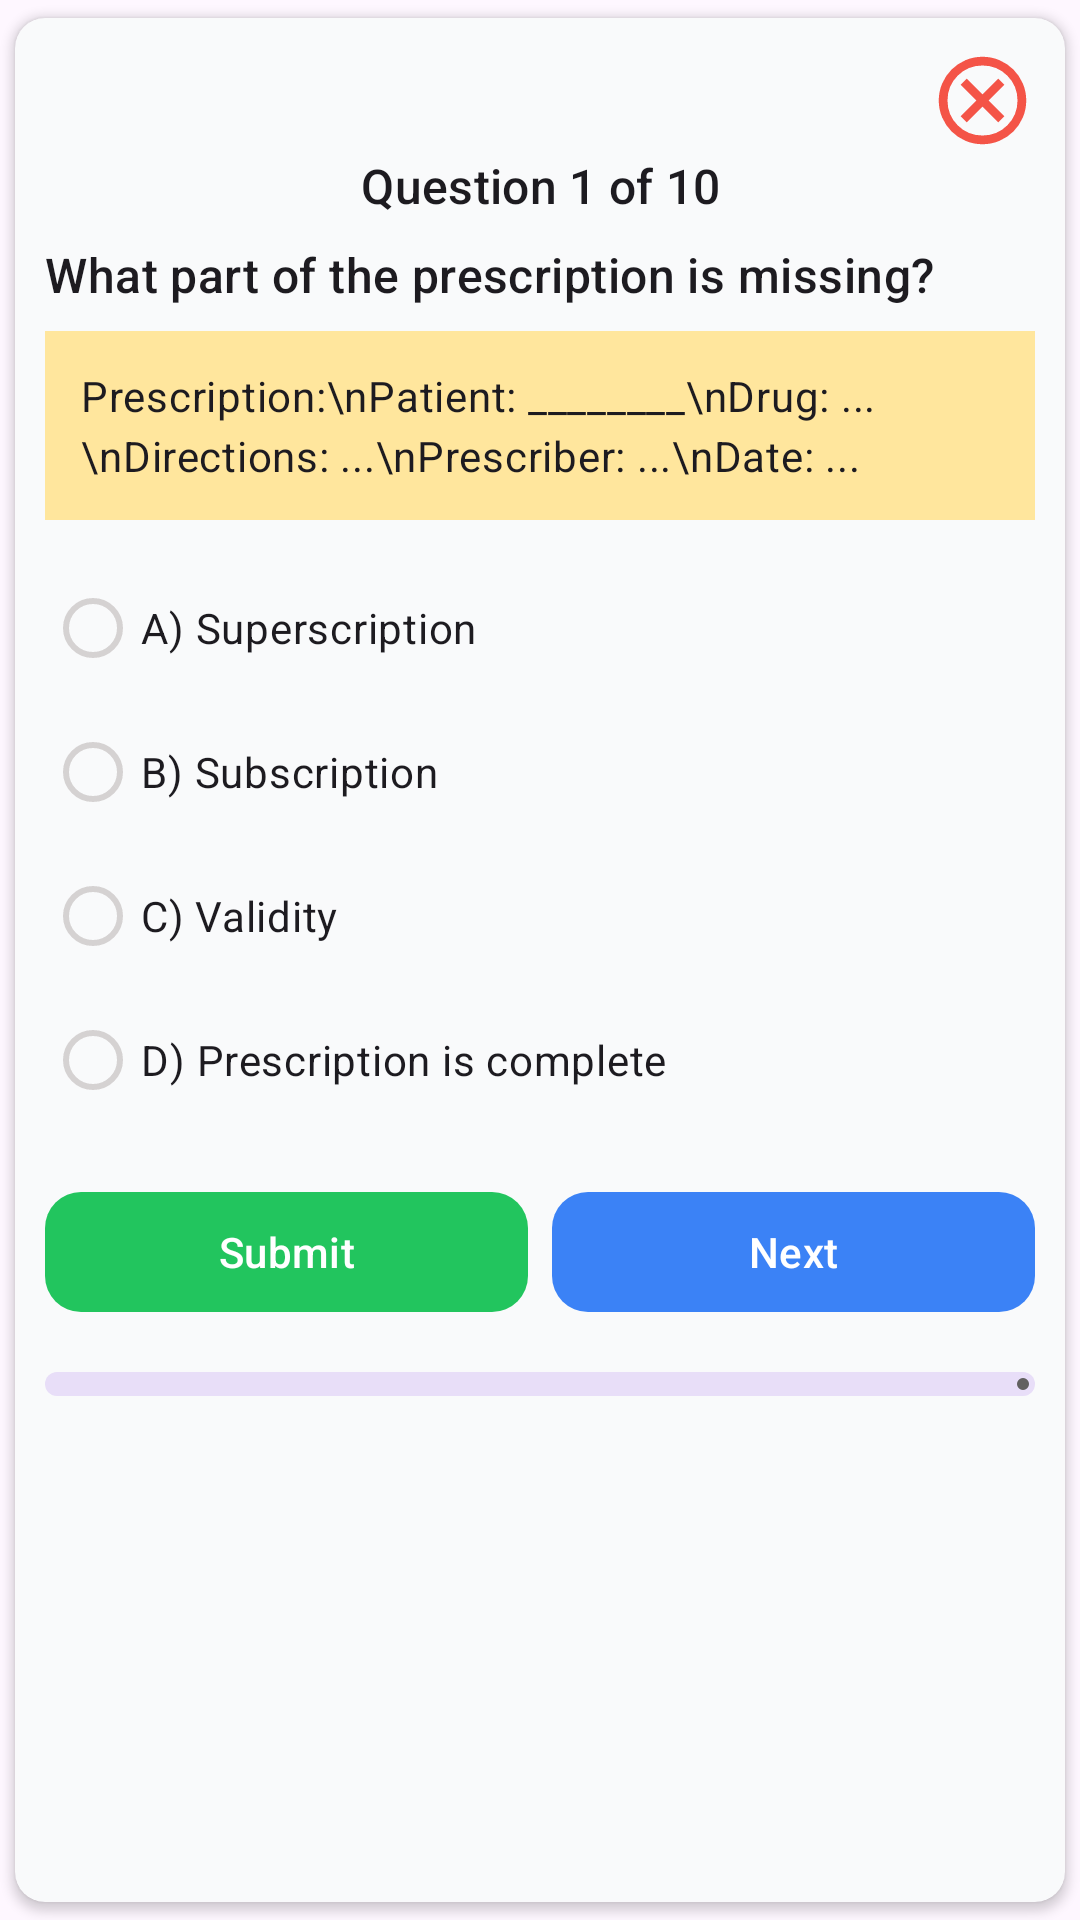

Named icons in this screenshot (1080×1920) and their bounding boxes, (x1, y1, x2, y2):
cancel: (938, 56, 1027, 145)
